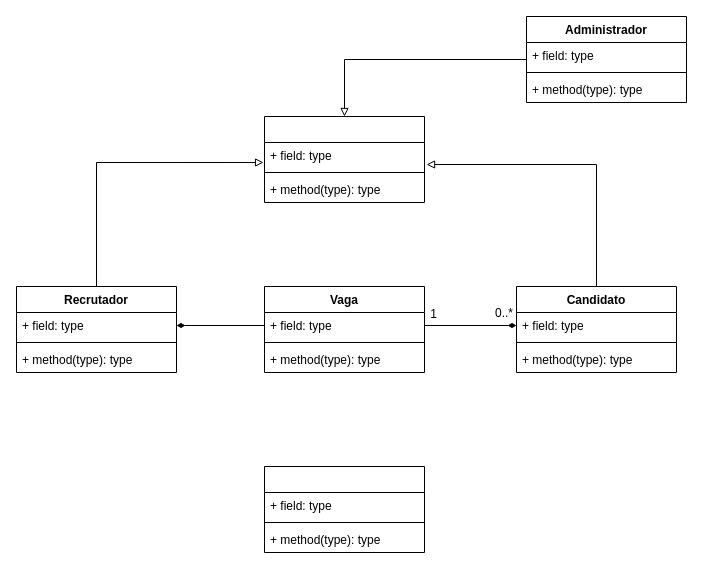
This 703x569 diagram has some shape labels left out. Each missing label, with the box of its shape:
Relatório: (264, 466, 424, 552)
Usuário: (264, 116, 424, 202)
